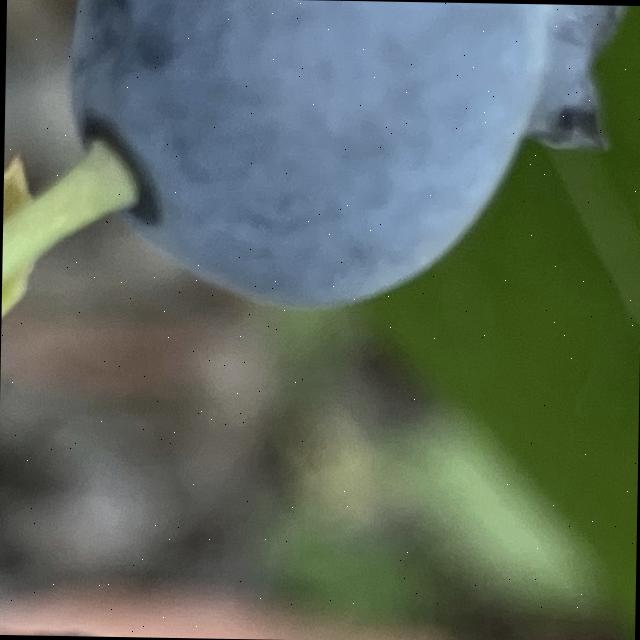Blueberries: (61, 0, 620, 315)
